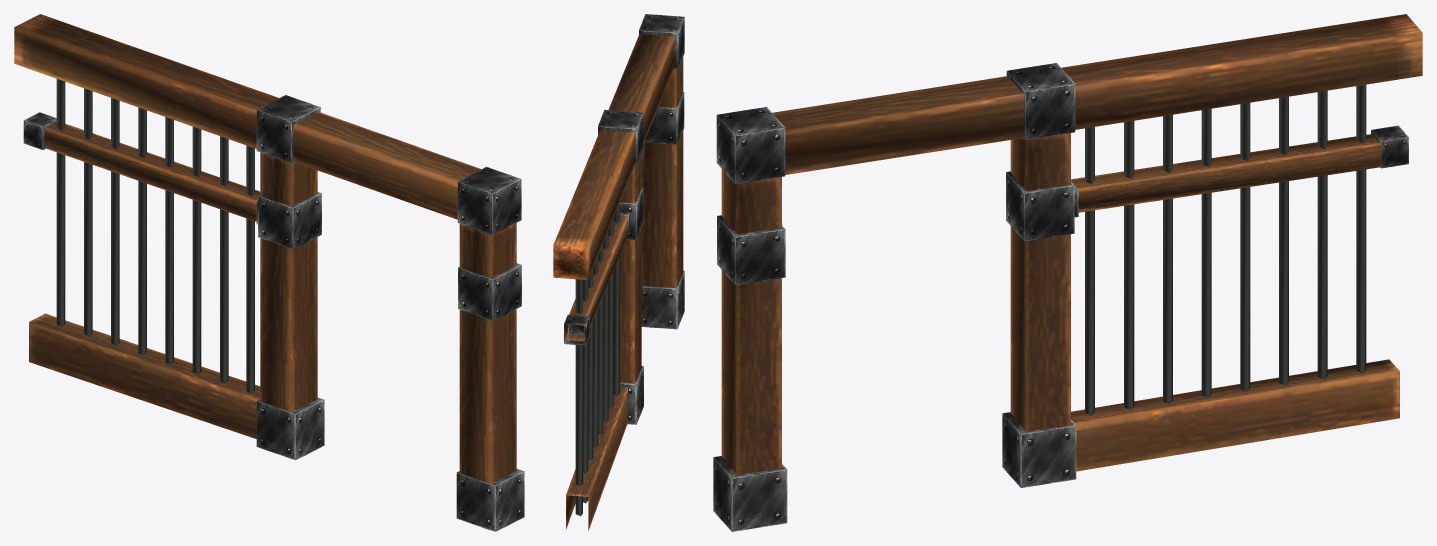
Rendered from SWORDLIGHT20_JAILCELLBARS04.fbx.
3 renders of one model, left to right at view 1: azimuth 30°, elevation 25°; view 2: azimuth 150°, elevation 25°; view 3: azimuth 270°, elevation 25°, orthographic. The views are drawn at different scales.
Visible parts, largest first — view 1: SWORDLIGHT20_JAILCELLBARS04; view 2: SWORDLIGHT20_JAILCELLBARS04; view 3: SWORDLIGHT20_JAILCELLBARS04.
Part boxes in pixels (x1,y1,x2,y2): SWORDLIGHT20_JAILCELLBARS04: (14, 14, 524, 531); SWORDLIGHT20_JAILCELLBARS04: (553, 14, 684, 530); SWORDLIGHT20_JAILCELLBARS04: (713, 14, 1422, 531).
Size of the model in its own units: 25378 by 36866 by 59848.
3 materials, 3 textured.
